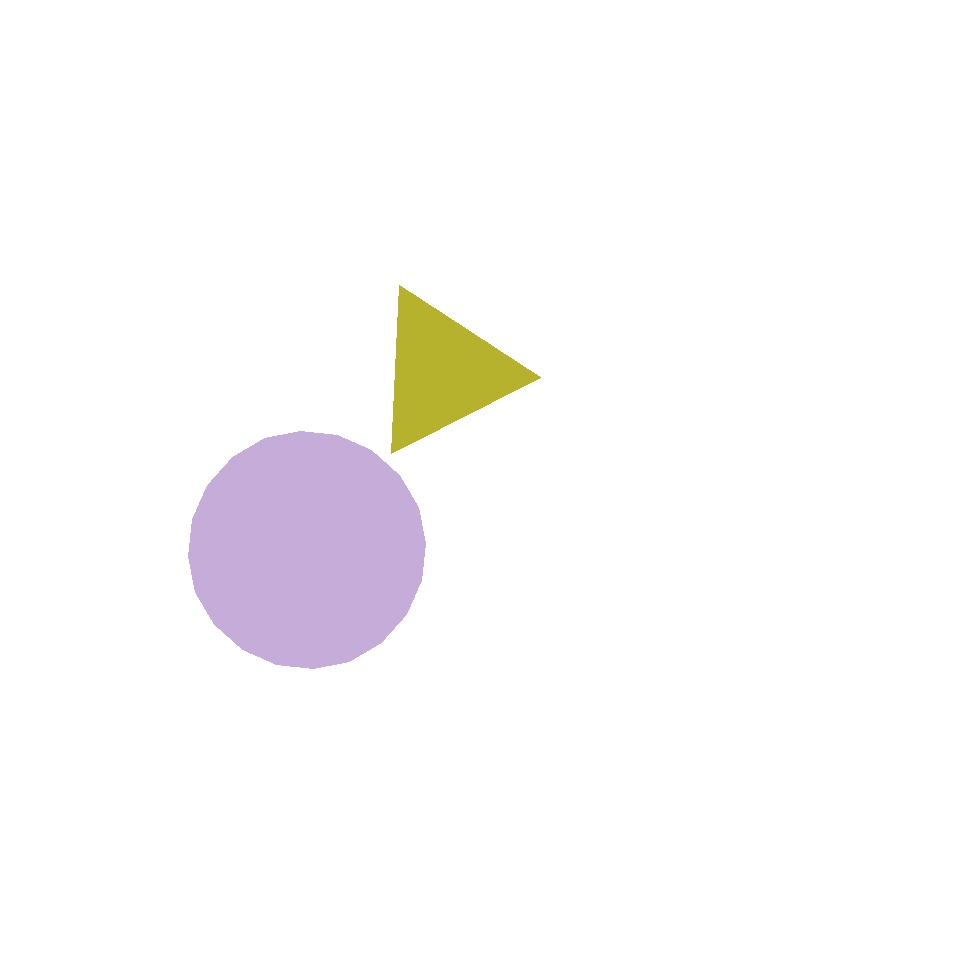circle: (106, 141, 408, 438), (370, 288, 518, 456), (354, 190, 480, 322)
triangle: (188, 432, 426, 668), (270, 182, 470, 380)
